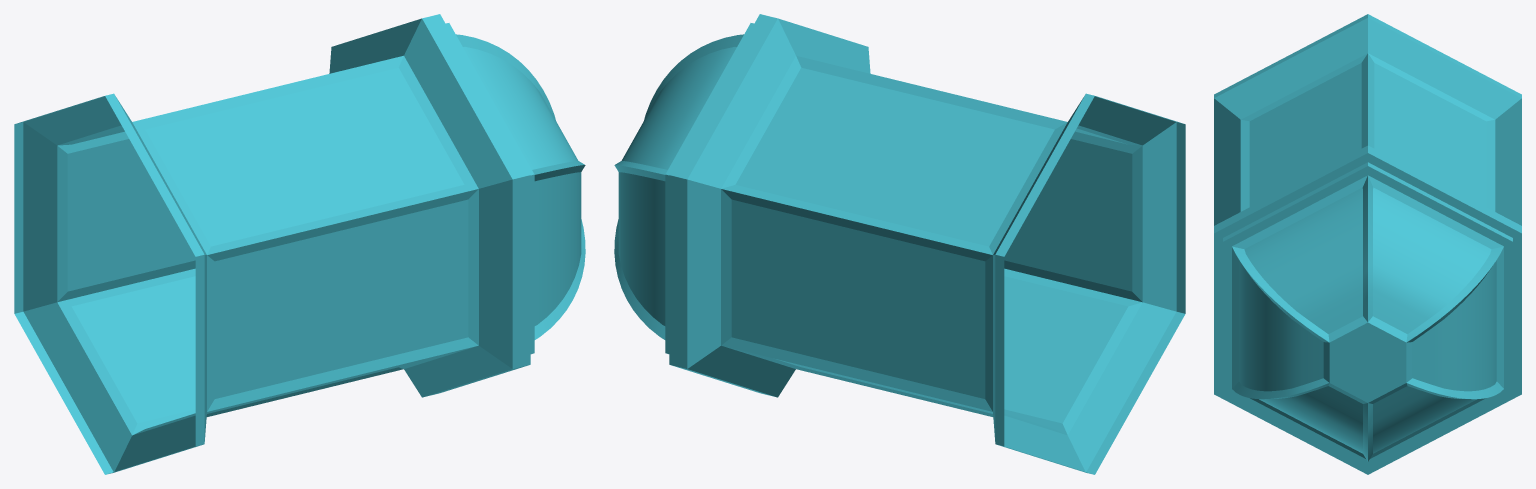
3 views of the same model, side by side, from view 1: azimuth 30°, elevation 25°; view 2: azimuth 150°, elevation 25°; view 3: azimuth 270°, elevation 25° (orthographic). The views are drawn at different scales.
Visible parts, largest first — view 1: Renderer Node; view 2: Renderer Node; view 3: Renderer Node.
Boxes of the visible parts, x1,y1,x2,y2 form: Renderer Node: (14, 14, 585, 474); Renderer Node: (614, 14, 1185, 474); Renderer Node: (1214, 14, 1521, 474).
Bounding box in the file's own units: 0.6868 × 0.5494 × 0.4758.
1 material, 1 textured.
